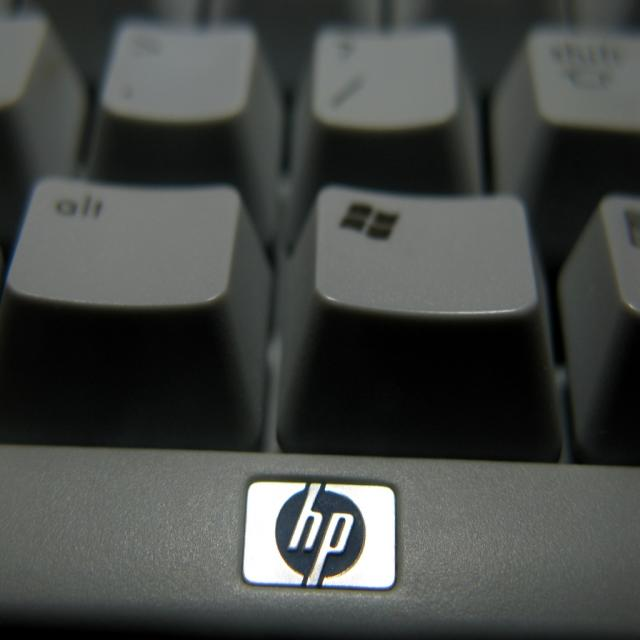HP: (244, 481, 397, 593)
